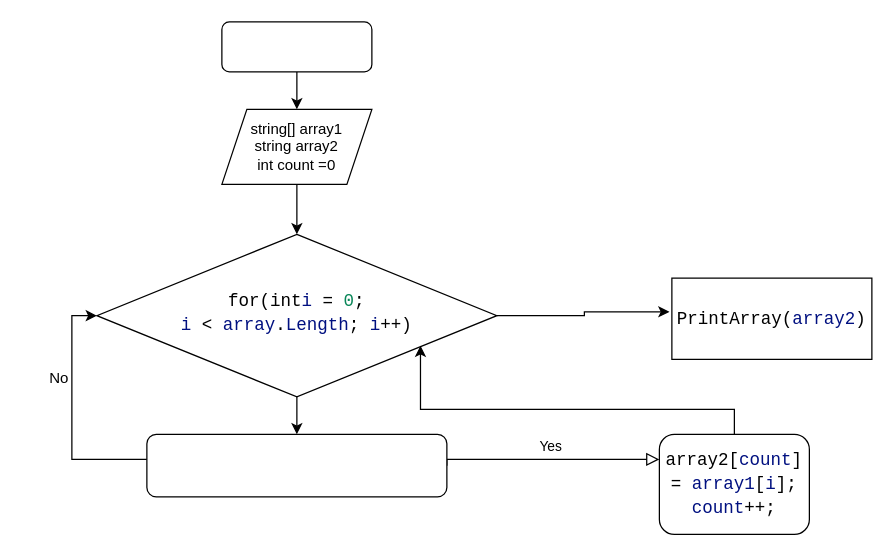
This 894x556 diagram has some shape labels left out. Here are the shapes that lost their labels. From the top down, the box of each, then its label:
(221, 21, 372, 72): string[]m
(146, 433, 447, 497): if( array1 [ i ]. Length <= 3 )
